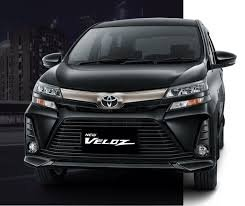mobil: (21, 20, 241, 184)
